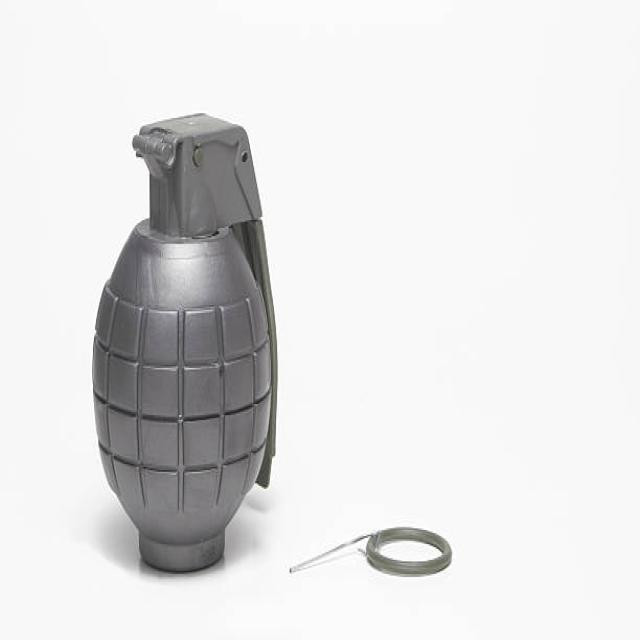grenade: (81, 109, 287, 582)
